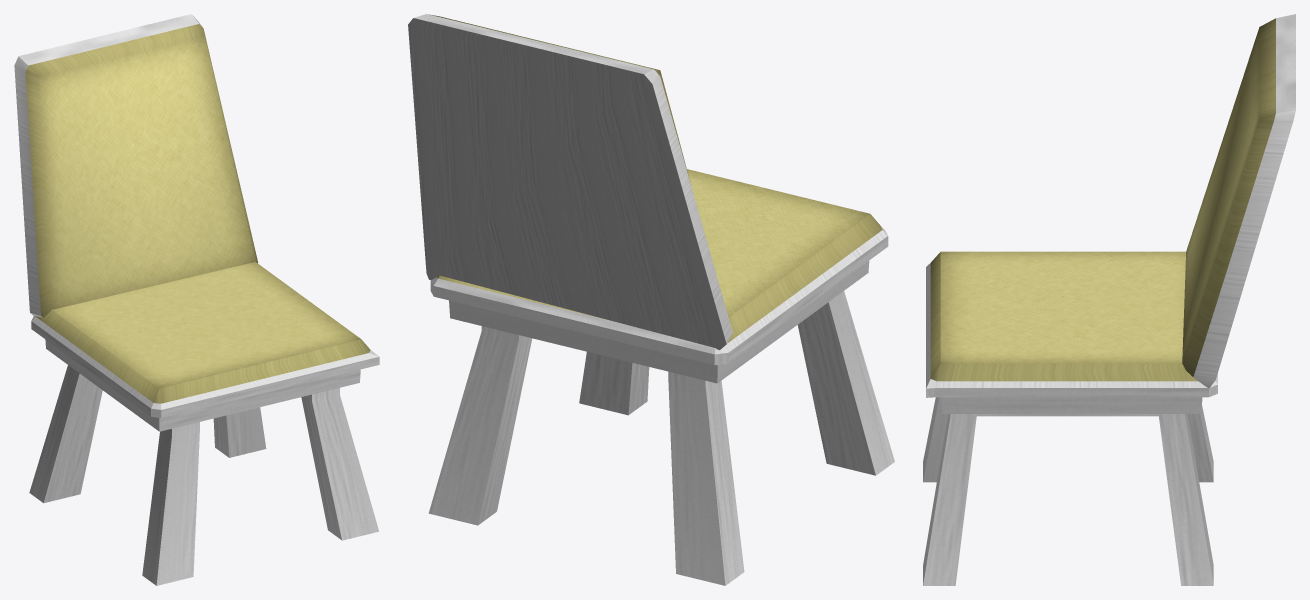
The model's file is Dining_Room_Chair_F_2.FBX.
3 views of the same model, side by side, from view 1: azimuth 30°, elevation 25°; view 2: azimuth 150°, elevation 25°; view 3: azimuth 270°, elevation 25° (orthographic). The views are drawn at different scales.
Parts seen in each view (by area): view 1: Dining_Chair; view 2: Dining_Chair; view 3: Dining_Chair.
Boxes of the visible parts, <box> form: Dining_Chair: <box>14,14,379,585</box>; Dining_Chair: <box>408,14,894,585</box>; Dining_Chair: <box>923,14,1295,585</box>.
Bounding box in the file's own units: 121 × 208 × 152.
